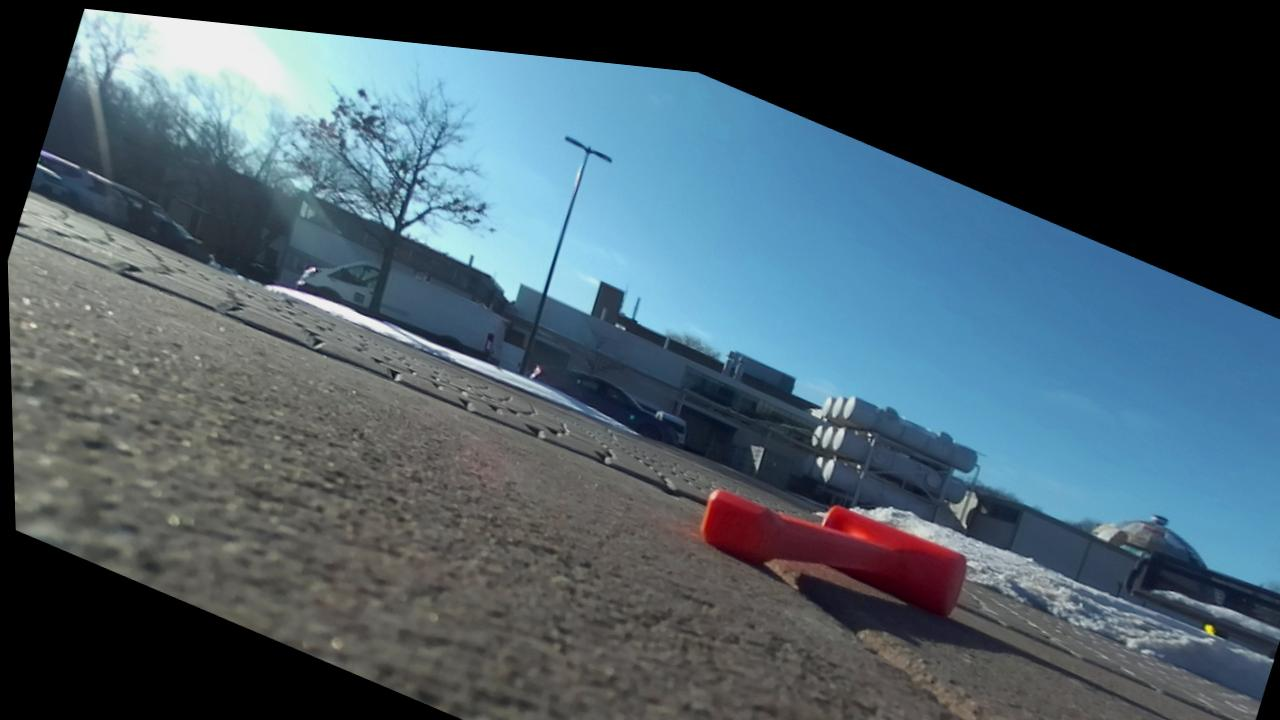mallet: (700, 489, 965, 616)
